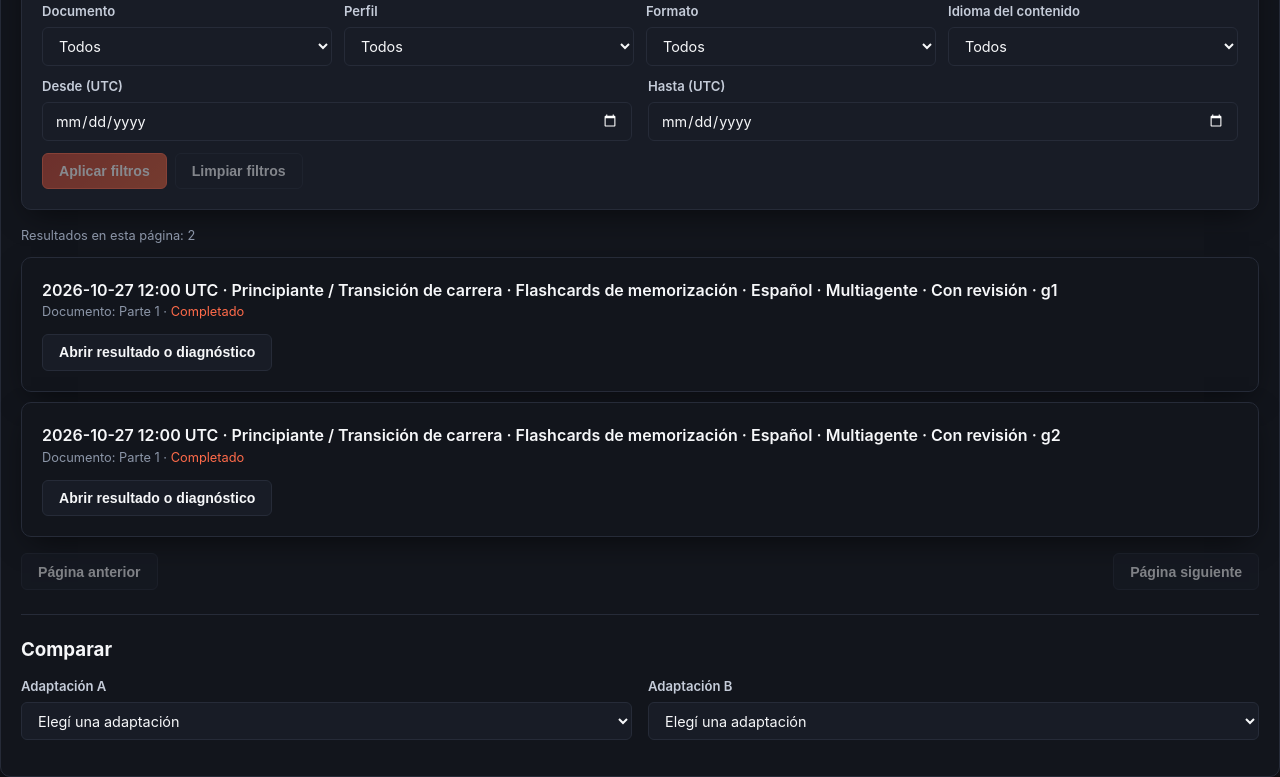
historial › comparar el mismo resultado dos veces explica qué elegir, sin hablar de hash
(page scrolled)
Select "2026-10-27 12:00 UTC · Principiante / Transición de carrera · Flashcards de memo" in the dropdown labelled "Adaptación A". click: (326, 721)
box: left=21, top=702, right=632, bottom=740
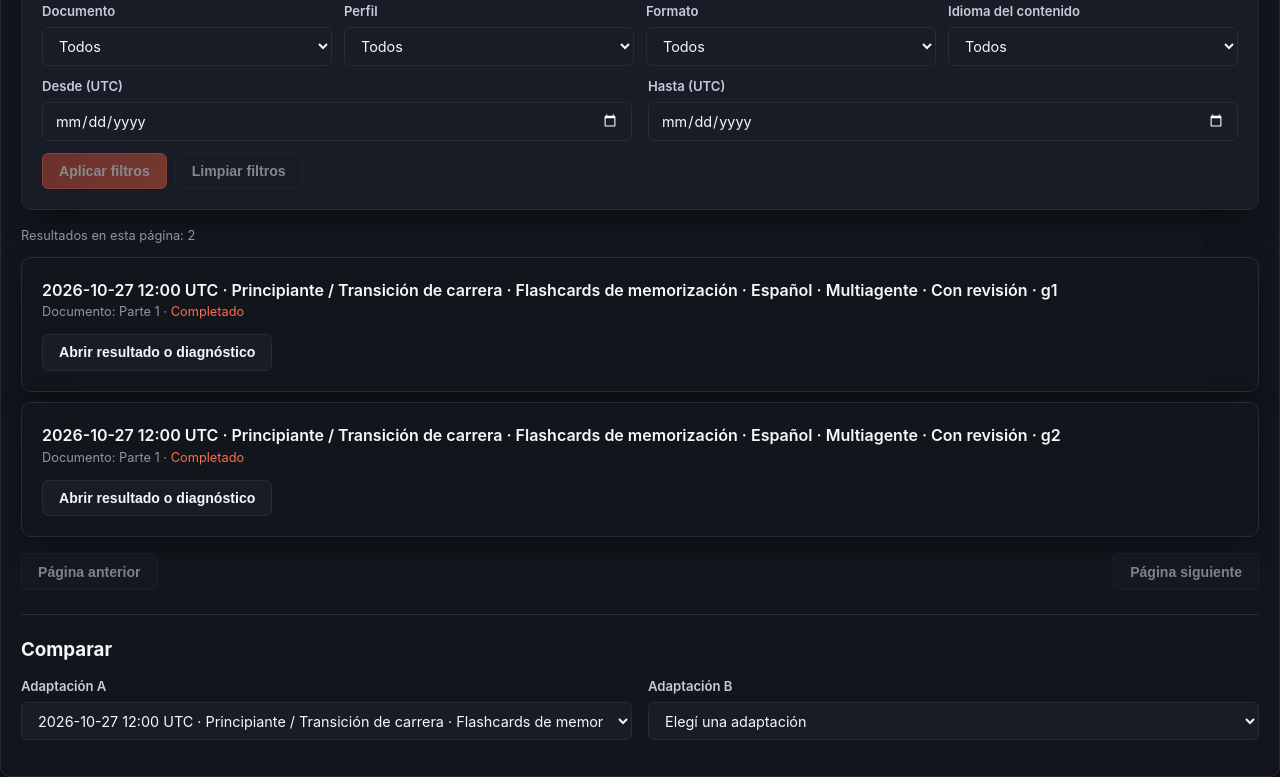
Select "2026-10-27 12:00 UTC · Principiante / Transición de carrera · Flashcards de memo" in the dropdown labelled "Adaptación B". click: (954, 721)
box: left=648, top=702, right=1259, bottom=740
(page scrolled)
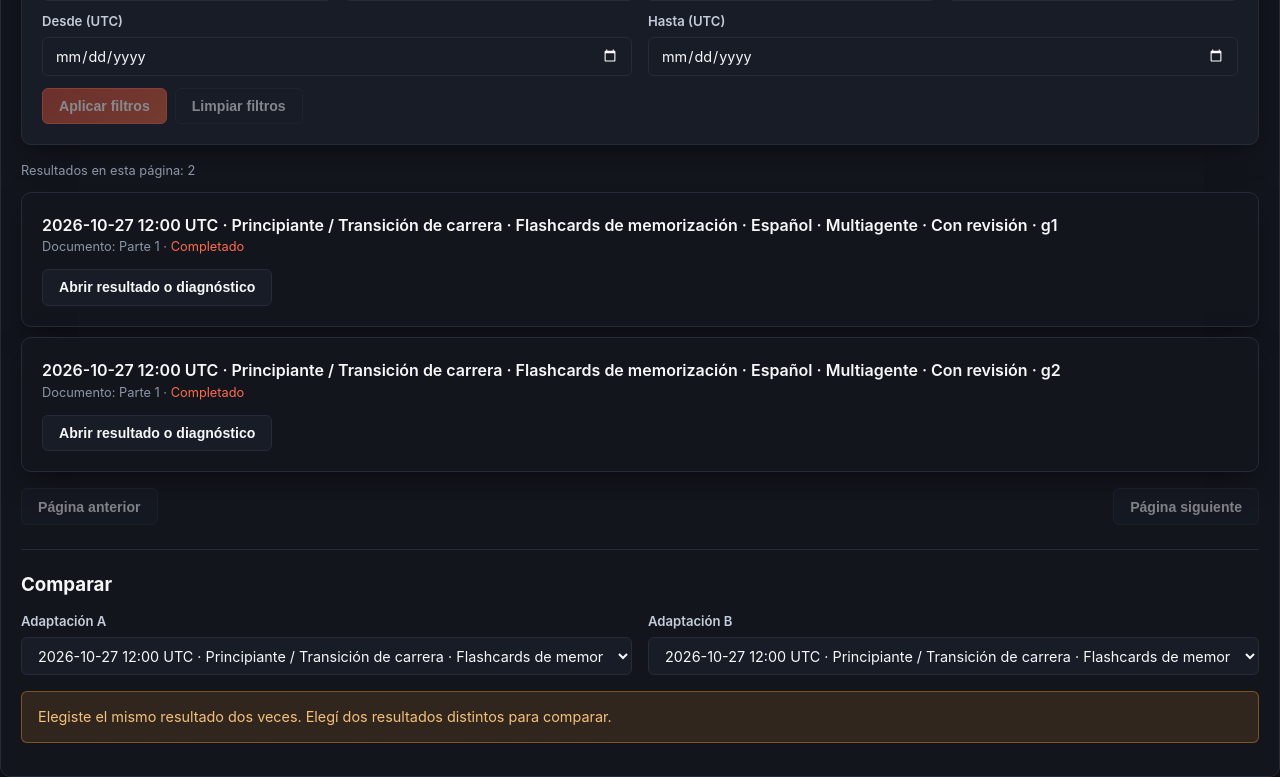
Check: the text "Elegiste el mismo resultado dos veces. Elegí dos resultados distintos para comparar." is shown, box left=38, top=708, right=612, bottom=725
